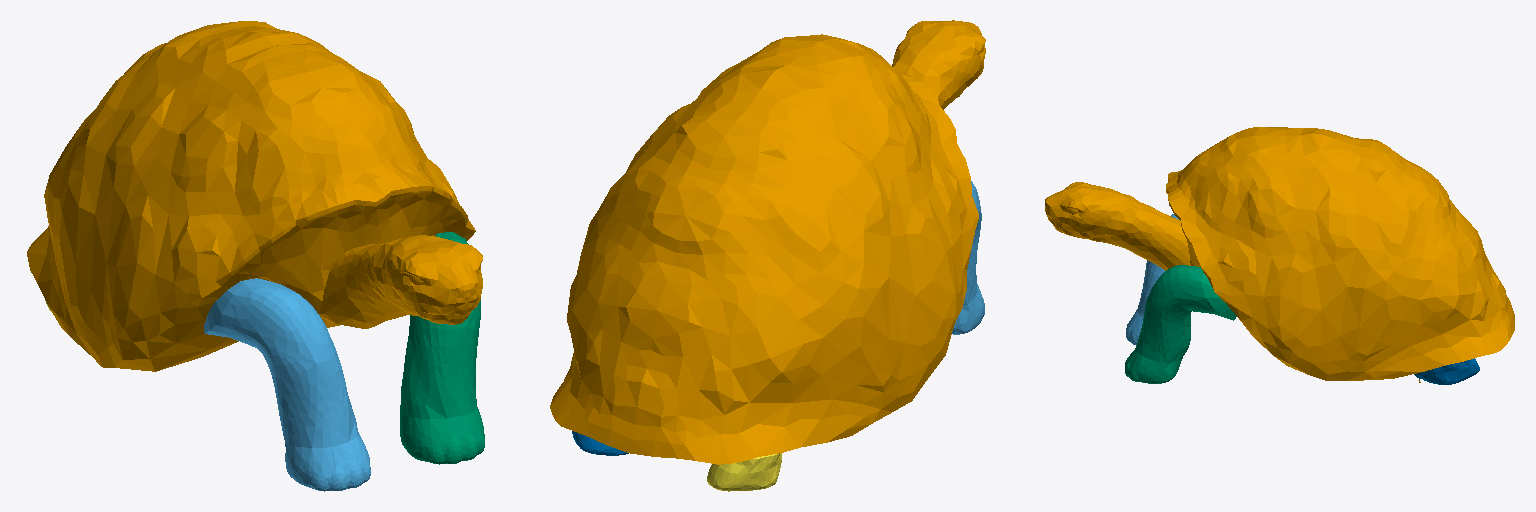
The robot description file, URDF, robot "tortoise":
<?xml version="1.0" ?>
<!-- =================================================================================== -->
<!-- |    This document was autogenerated by xacro from Fish1.xacro                    | -->
<!-- |    EDITING THIS FILE BY HAND IS NOT RECOMMENDED                                 | -->
<!-- =================================================================================== -->
<robot name="tortoise" xmlns:xacro="http://www.ros.org/wiki/xacro">
  <link name="base_link">
    <visual>
      <origin rpy="0 0 0" xyz="0 0 0"/>
      <geometry>
        <mesh filename="package://uwsim_models/Tortoise/Tortoise_model/Tortoise_Body.dae"/>
      </geometry>
    </visual>
  </link>

  <link name="tortoise_right_front_leg">
    <visual>
      <origin rpy="0 0 0" xyz="0 0 0"/>
      <geometry>
        <mesh filename="package://uwsim_models/Tortoise/Tortoise_model/Tortoise_RightFrontleg.dae"/>
      </geometry>
    </visual>
  </link>

  <joint name="Slew" type="revolute">
    <parent link="base_link"/>
    <child link="tortoise_right_front_leg"/>
    <axis xyz="1 0 0"/>
    <origin rpy="0 0 0" xyz="-0.1733 -0.24157 0.23369"/>
    <limit effort="1000.0" lower="-1" upper="1" velocity="1.0"/>
  </joint>

  <link name="tortoise_left_front_leg">
    <visual>
      <origin rpy="0 0 0" xyz="0 0 0"/>
      <geometry>
        <mesh filename="package://uwsim_models/Tortoise/Tortoise_model/Tortoise_LeftFrontleg.dae"/>
      </geometry>
    </visual>
  </link>

  <joint name="Shoulder" type="revolute">
    <parent link="base_link"/>
    <child link="tortoise_left_front_leg"/>
    <axis xyz="1 0 0"/>
    <origin rpy="0 0 0" xyz="0.22427 -0.24346 0.233505"/>
    <limit effort="1000.0" lower="-1" upper="1" velocity="1.0"/>
  </joint>

  <link name="tortoise_right_rear_leg">
    <visual>
      <origin rpy="0 0 0" xyz="0 0 0"/>
      <geometry>
        <mesh filename="package://uwsim_models/Tortoise/Tortoise_model/Tortoise_RightRearleg.dae"/>
      </geometry>
    </visual>
  </link>

  <joint name="Elbow" type="revolute">
    <parent link="base_link"/>
    <child link="tortoise_right_rear_leg"/>
    <axis xyz="1 0 0"/>
    <origin rpy="0 0 0" xyz="-0.17700 0.44157 0.08757"/>
    <limit effort="1000.0" lower="-0.5" upper="0.5" velocity="1.0"/>
  </joint>

  <link name="tortoise_left_rear_leg">
    <visual>
      <origin rpy="0 0 0" xyz="0 0 0"/>
      <geometry>
        <mesh filename="package://uwsim_models/Tortoise/Tortoise_model/Tortoise_LeftRearleg.dae"/>
      </geometry>
    </visual>
  </link>

  <joint name="JawRotate" type="revolute">
    <parent link="base_link"/>
    <child link="tortoise_left_rear_leg"/>
    <axis xyz="1 0 0"/>
    <origin rpy="0 0 0" xyz="0.17831 0.43039 0.08730"/>
    <limit effort="1000.0" lower="-0.5" upper="0.5" velocity="1.0"/>
  </joint>

</robot>

--- What the picture shows (computed from the rendered views, not written in the file) ---
3 views of the same robot in one strip: view 1: azimuth 30°, elevation 25°; view 2: azimuth 150°, elevation 25°; view 3: azimuth 270°, elevation 25° (orthographic).
Robot: tortoise — 5 links, 4 joints (4 revolute); root link base_link; default pose: all joints at 0.
Links seen in each view (by area): view 1: base_link, tortoise_right_front_leg, tortoise_left_front_leg; view 2: base_link, tortoise_right_rear_leg, tortoise_right_front_leg, tortoise_left_rear_leg; view 3: base_link, tortoise_left_front_leg, tortoise_left_rear_leg, tortoise_right_front_leg.
Link boxes in pixels (box(x1,y1,x2,y2)): base_link: box(27, 21, 482, 371); tortoise_right_front_leg: box(204, 278, 370, 491); tortoise_left_front_leg: box(400, 232, 484, 464); base_link: box(550, 20, 985, 464); tortoise_right_rear_leg: box(707, 453, 781, 491); tortoise_right_front_leg: box(952, 181, 984, 334); tortoise_left_rear_leg: box(572, 431, 628, 455); base_link: box(1045, 127, 1514, 382); tortoise_left_front_leg: box(1125, 265, 1236, 383); tortoise_left_rear_leg: box(1414, 358, 1479, 384); tortoise_right_front_leg: box(1126, 214, 1178, 345).
Size in the robot's own frame: 0.7036 by 1.33 by 0.7028 metres.
Meshes: 5 distinct files referenced, 5 mesh visuals loaded (5 Collada DAE).
